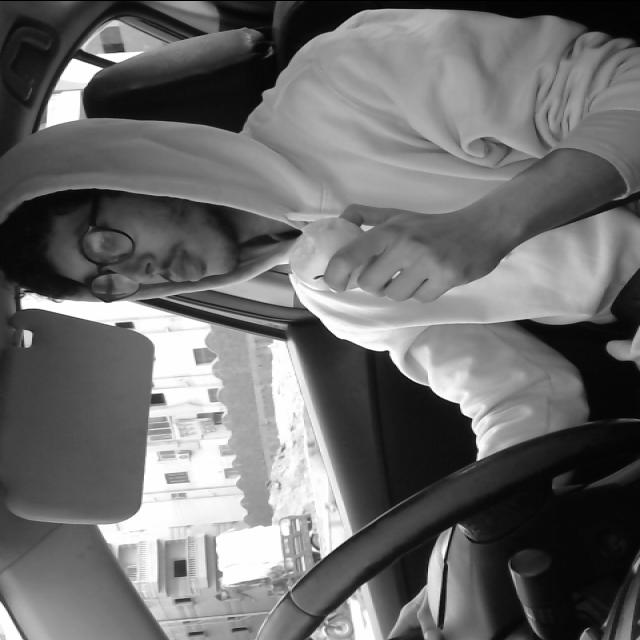eating: (286, 214, 378, 296)
